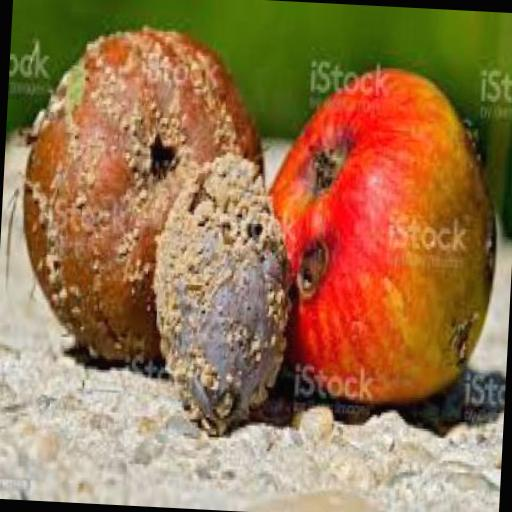biodegradable: (12, 16, 270, 370), (256, 57, 505, 418), (143, 142, 296, 440)
